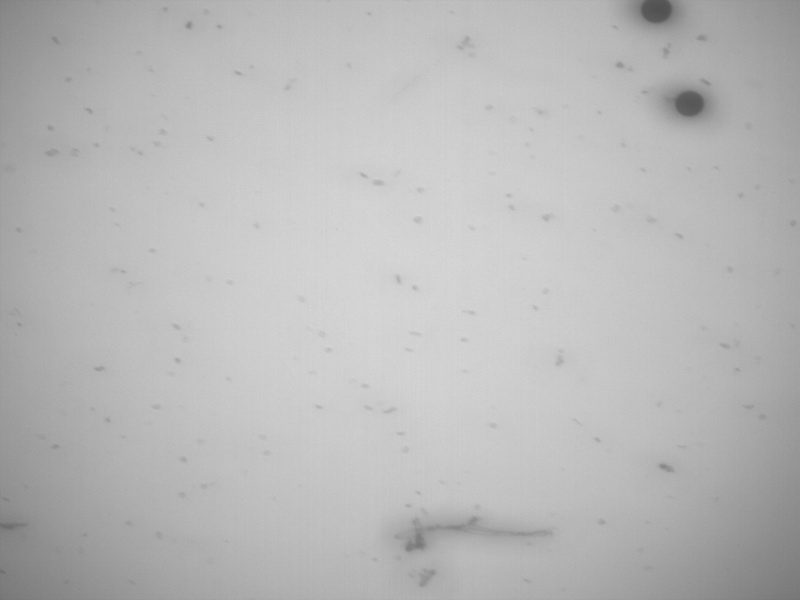bead: (674, 89, 705, 119), (639, 1, 674, 25)
fiber: (391, 522, 556, 544)
